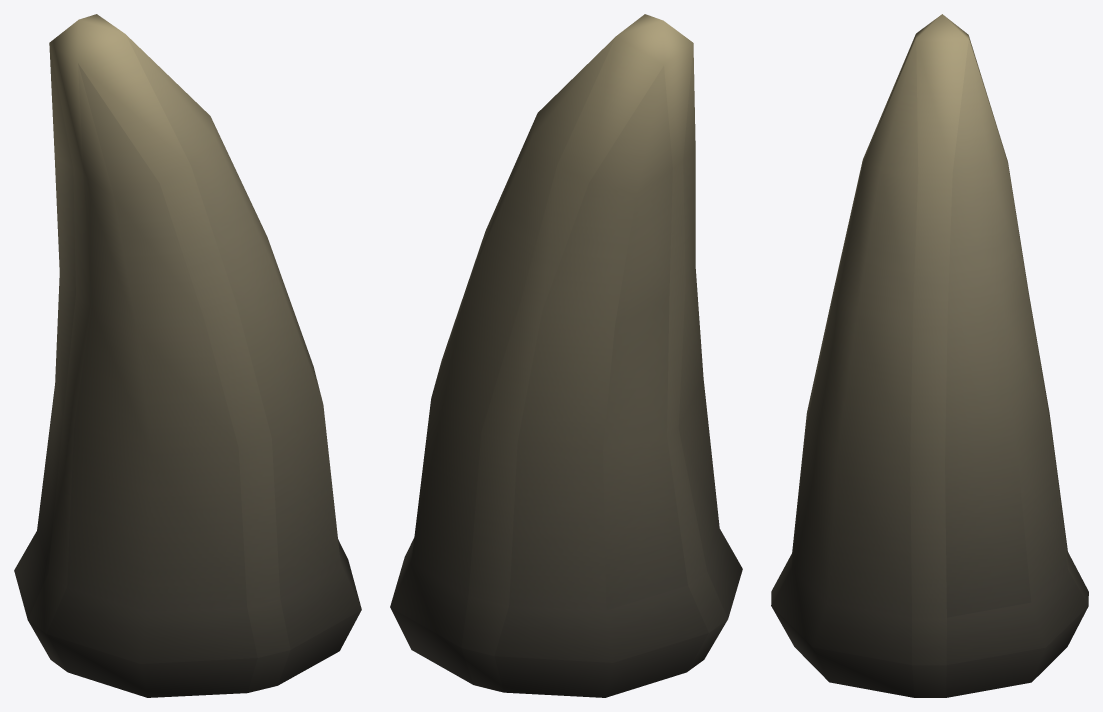
The model's file is undead_ground_bone_5.fbx.
3 renders of one model, left to right at view 1: azimuth 30°, elevation 25°; view 2: azimuth 150°, elevation 25°; view 3: azimuth 270°, elevation 25°, orthographic. The views are drawn at different scales.
Visible parts, largest first — view 1: undead_ground_bone_5; view 2: undead_ground_bone_5; view 3: undead_ground_bone_5.
Boxes of the visible parts, x1,y1,x2,y2 form: undead_ground_bone_5: (14,14,361,697); undead_ground_bone_5: (390,14,742,697); undead_ground_bone_5: (771,14,1088,697).
Size of the model in its own units: 1.32 by 2.66 by 1.32.
